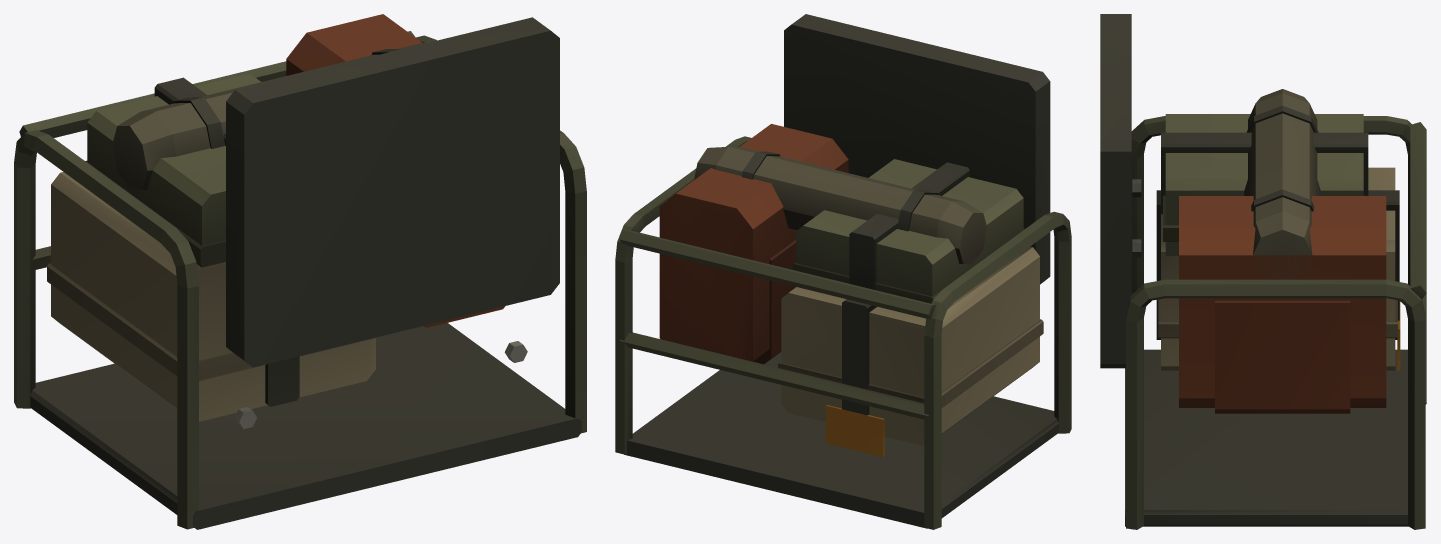
The model's file is waist-rack.glb.
3 views of the same model, side by side, from view 1: azimuth 30°, elevation 25°; view 2: azimuth 150°, elevation 25°; view 3: azimuth 270°, elevation 25° (orthographic). The views are drawn at different scales.
Parts seen in each view (by area): view 1: Body; view 2: Body; view 3: Body.
Boxes of the visible parts, x1,y1,x2,y2 form: Body: (14, 14, 586, 529); Body: (615, 14, 1071, 529); Body: (1100, 14, 1426, 529).
Size of the model in its own units: 0.9018 by 0.905 by 0.725.
